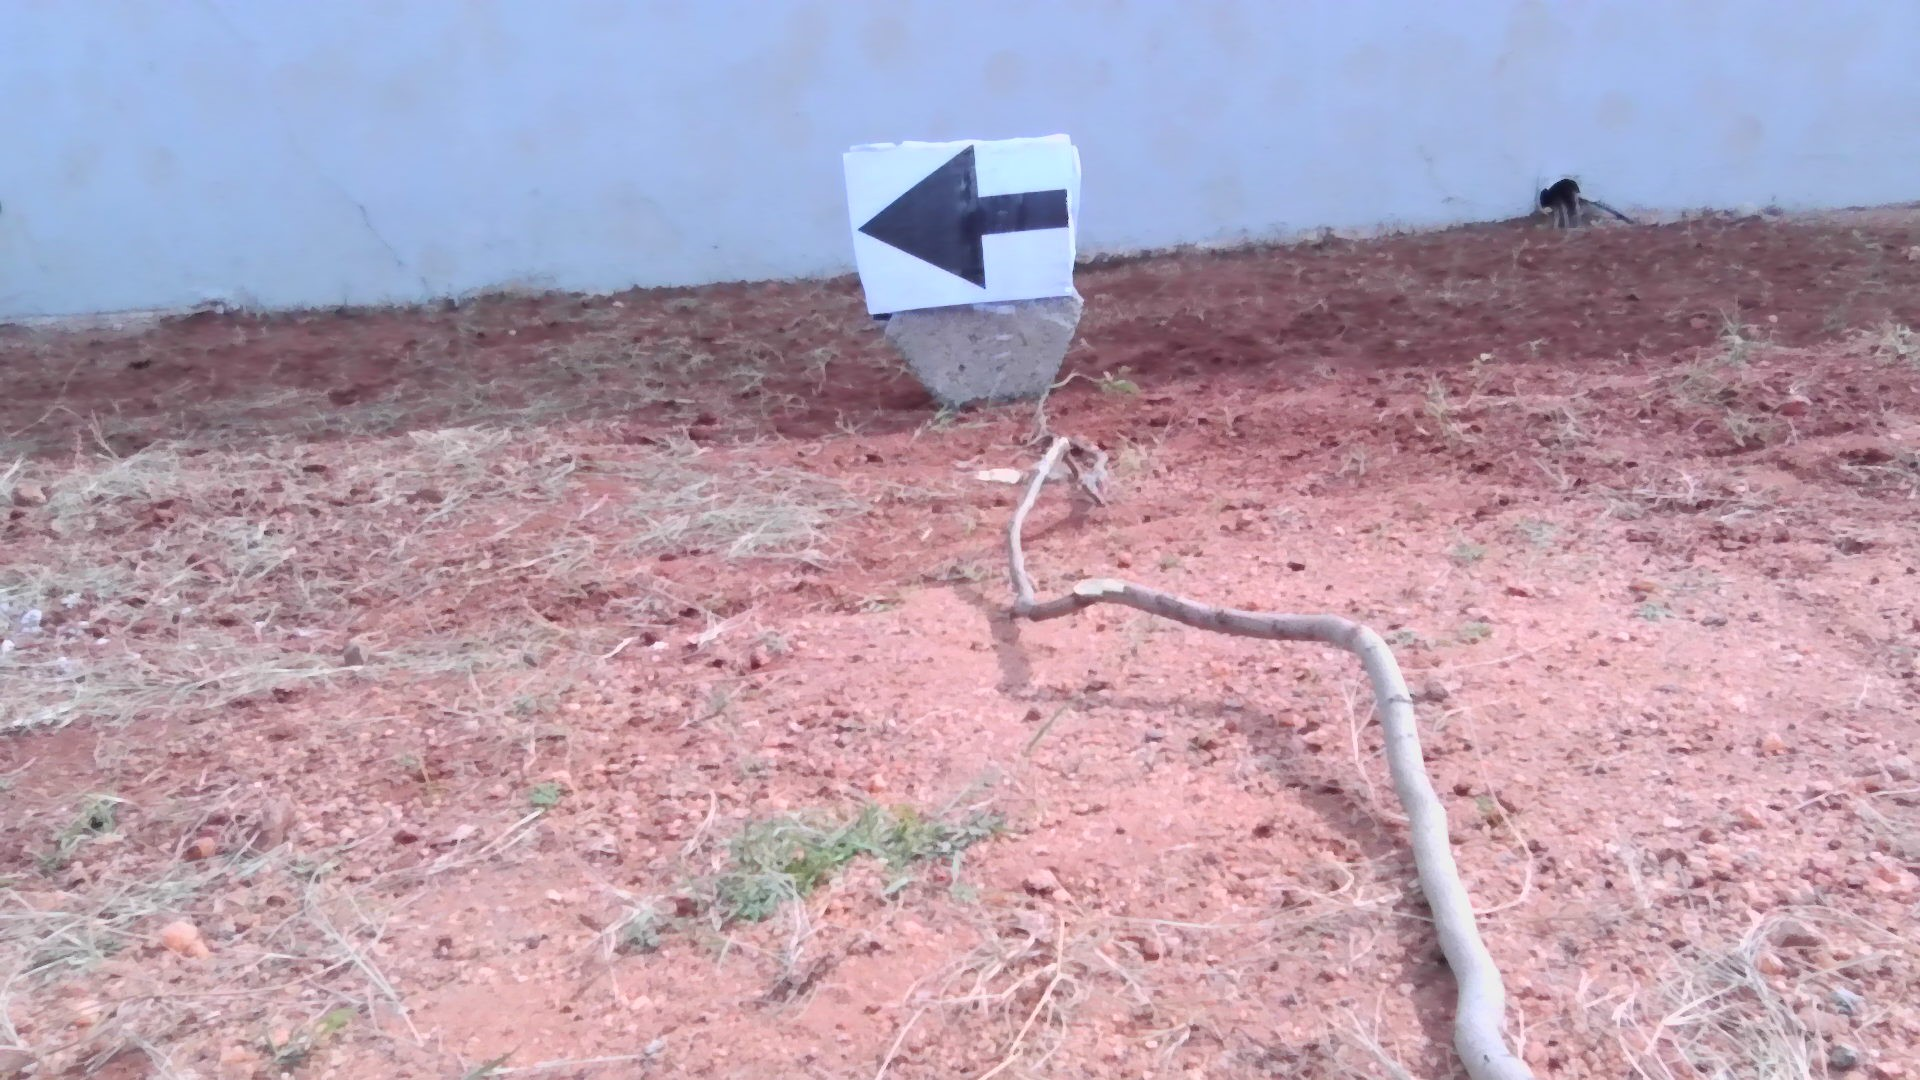leftDir: (844, 146, 1079, 299)
